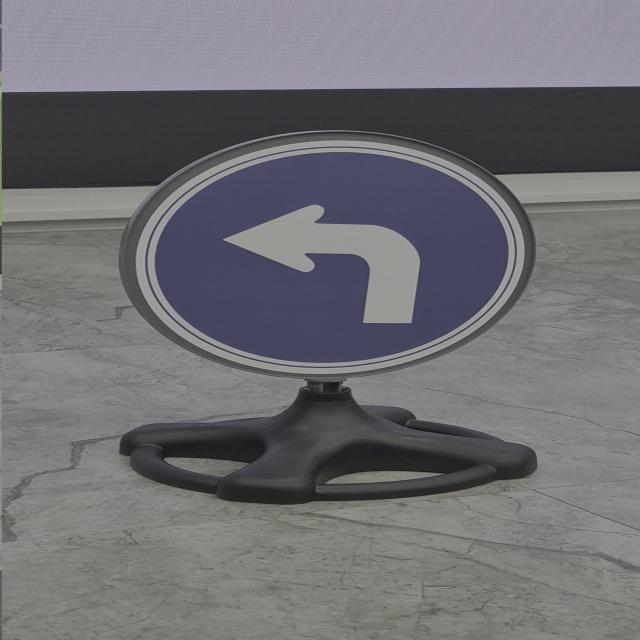left_direction: (90, 101, 588, 400)
